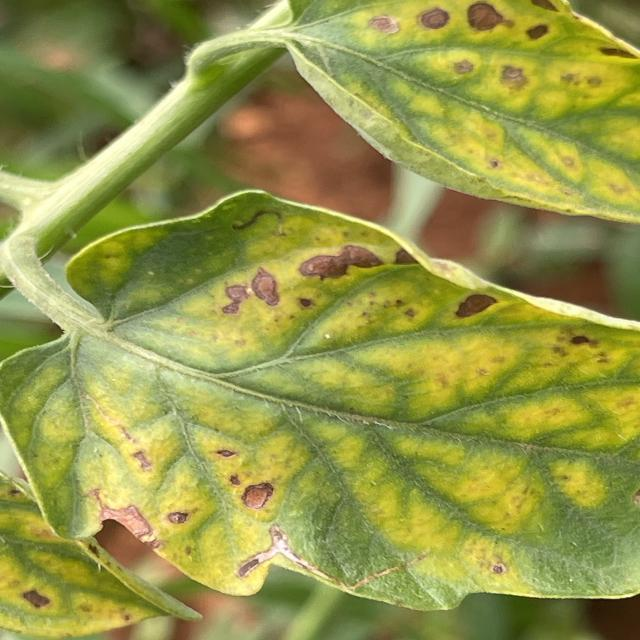tomato_early blight: (1, 191, 638, 610), (264, 0, 640, 222)
